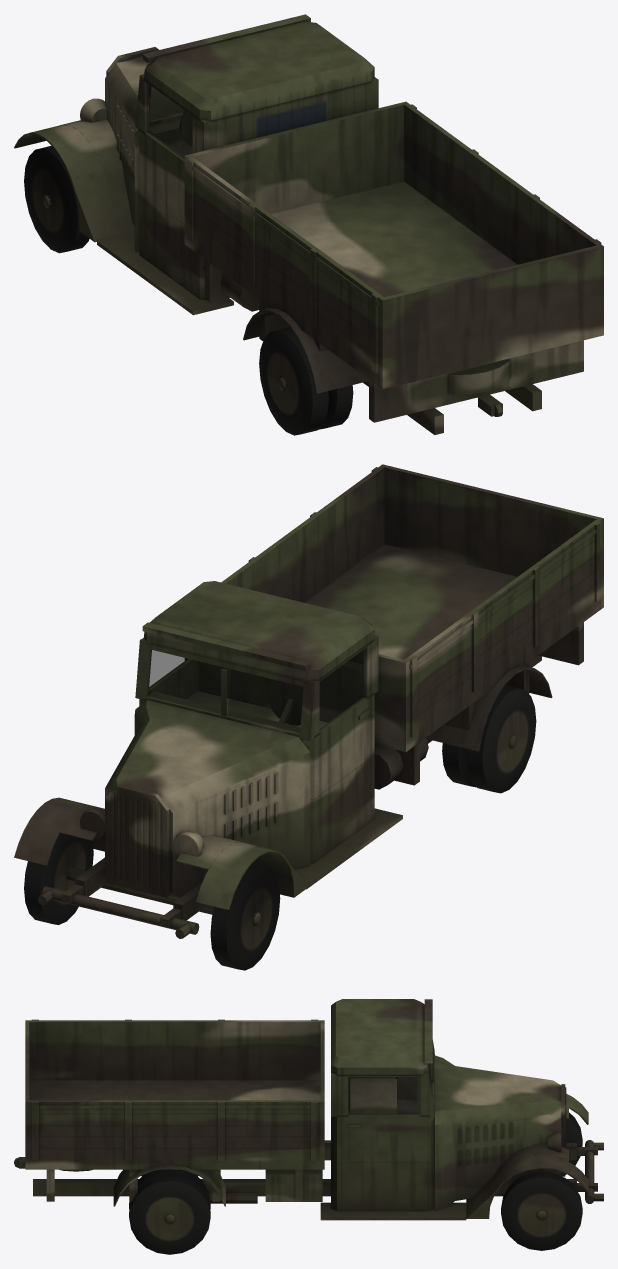
Rendered from PF621L_OPEN.fbx.
3 renders of one model, top to bottom at view 1: azimuth 30°, elevation 25°; view 2: azimuth 150°, elevation 25°; view 3: azimuth 270°, elevation 25°, orthographic. The views are drawn at different scales.
Parts seen in each view (by area): view 1: Chassis, Roue_02, Roue_Gauche_01; view 2: Chassis, Roue_02, Roue_Gauche_01, Roue_Droite_01; view 3: Chassis, Roue_02, Roue_Droite_01, Roue_Gauche_01.
Boxes of the visible parts, left/top/right/bottom form: Chassis: left=14, top=14, right=603, bottom=434; Roue_02: left=259, top=327, right=353, bottom=435; Roue_Gauche_01: left=24, top=146, right=89, bottom=253; Chassis: left=14, top=464, right=603, bottom=938; Roue_02: left=442, top=685, right=536, bottom=793; Roue_Gauche_01: left=210, top=863, right=280, bottom=970; Roue_Droite_01: left=24, top=833, right=93, bottom=924; Chassis: left=14, top=999, right=603, bottom=1220; Roue_02: left=129, top=1169, right=210, bottom=1254; Roue_Droite_01: left=501, top=1171, right=582, bottom=1250; Roue_Gauche_01: left=561, top=1112, right=582, bottom=1175.
Bounding box in the file's own units: 202 × 579 × 200.
2 materials, 1 textured.
